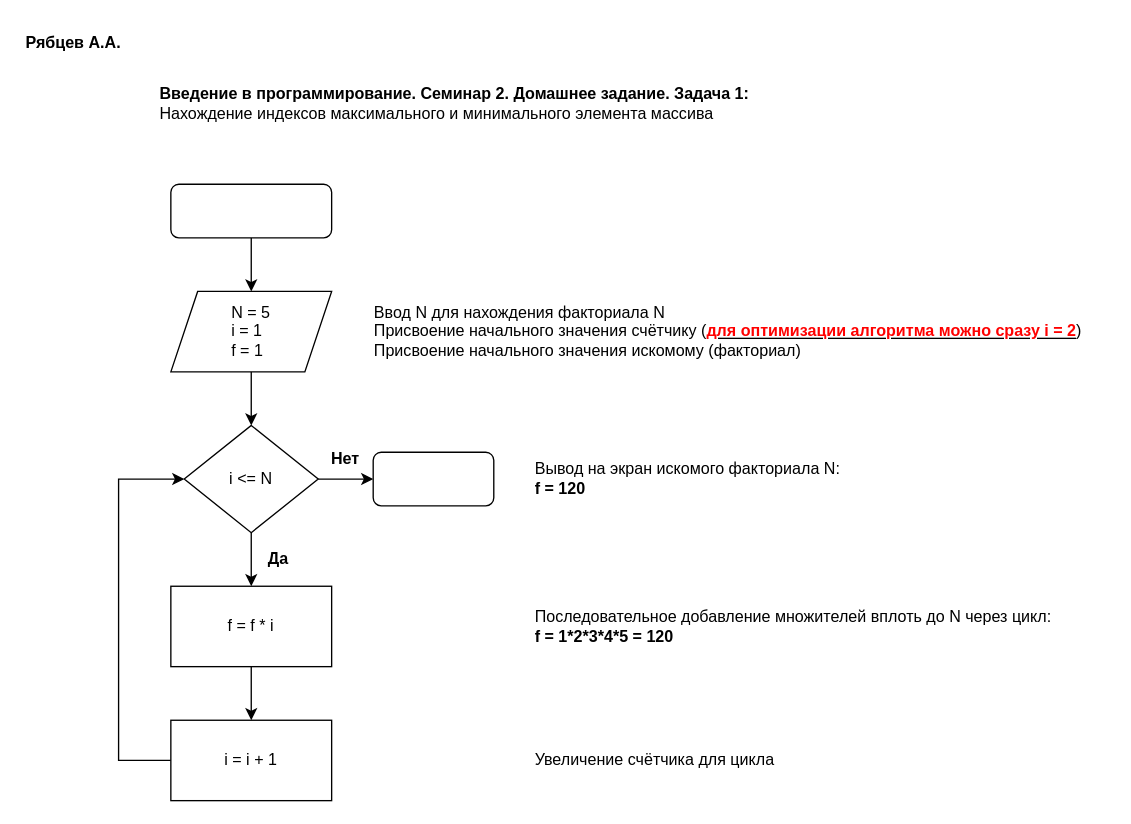
This 1131x824 diagram has some shape labels left out. Here are the shapes that lost their labels. From the top down, the box of each, then its label:
(170, 183, 332, 238): Start
(372, 451, 494, 506): print (f)
